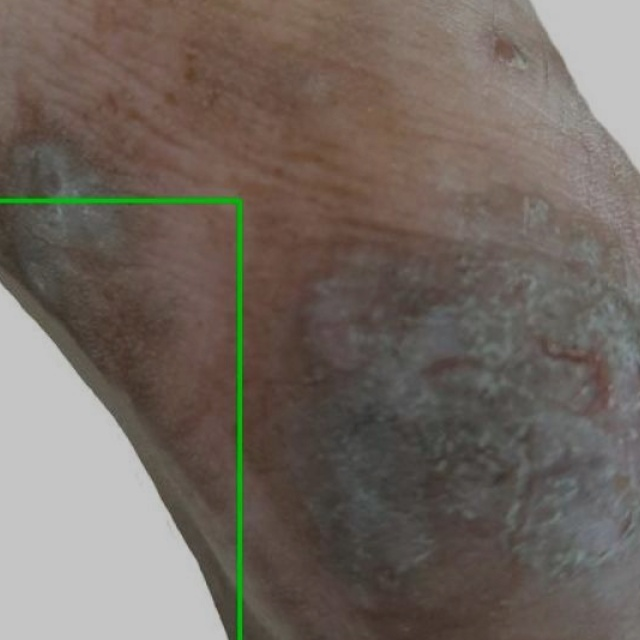Contact Dermatitis: (0, 200, 240, 639)
